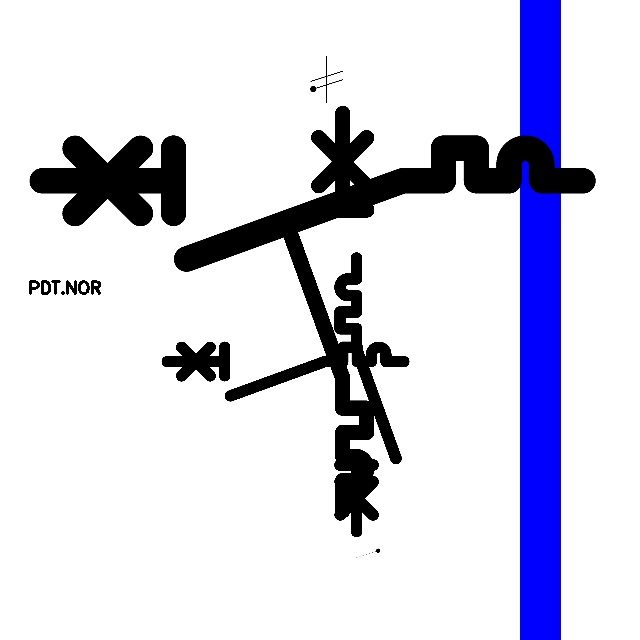interruptor_termomagnetico: (28, 134, 597, 273), (275, 103, 377, 520), (333, 251, 403, 538), (161, 341, 410, 402)
